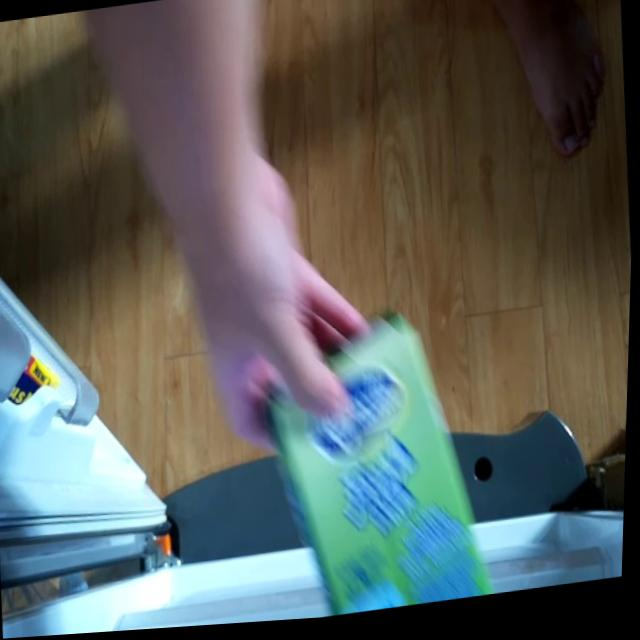milk: (259, 303, 507, 625)
